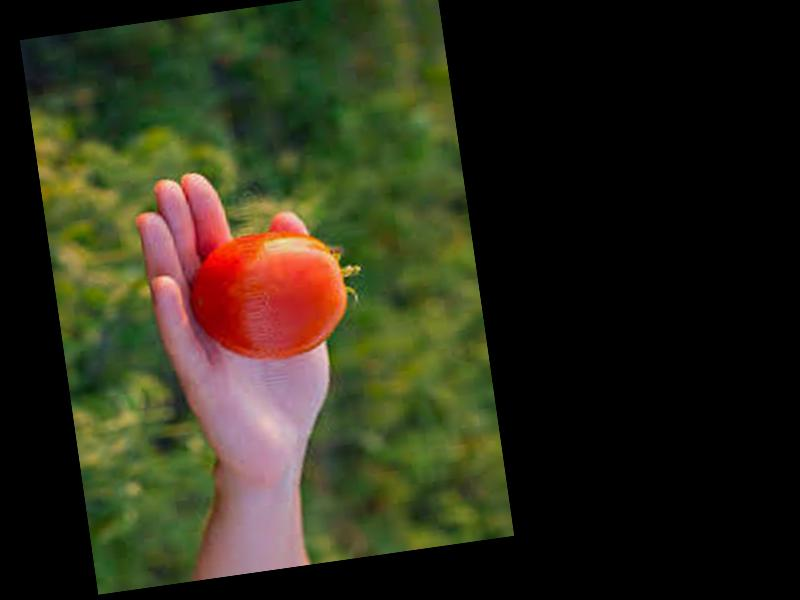Tomato: (180, 224, 352, 369)
